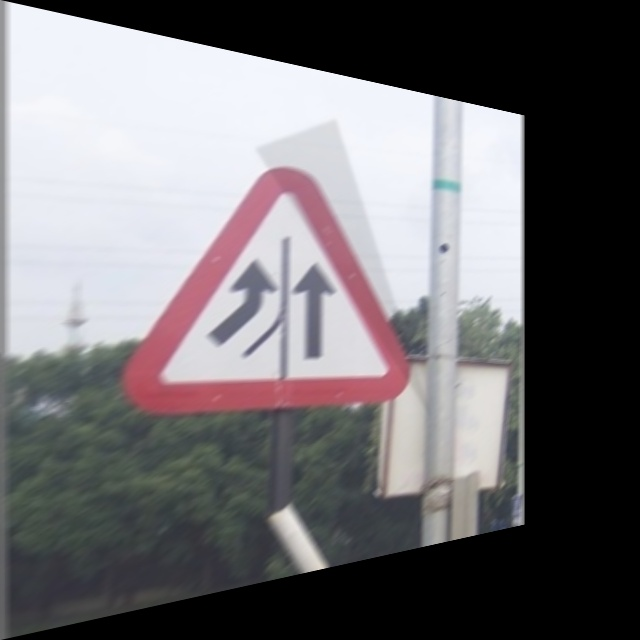Merge_Traffic_Ahead: (117, 139, 416, 437)
